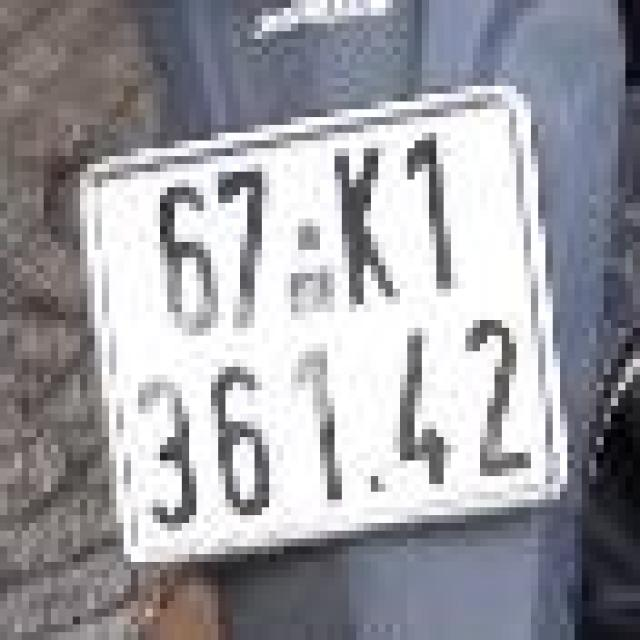1: (404, 129, 484, 300), (284, 348, 356, 512)
2: (462, 316, 534, 480)
3: (131, 370, 204, 534)
4: (382, 324, 454, 488)
6: (204, 363, 284, 527), (149, 183, 222, 339)
7: (218, 156, 276, 344)
K: (327, 133, 400, 312)
